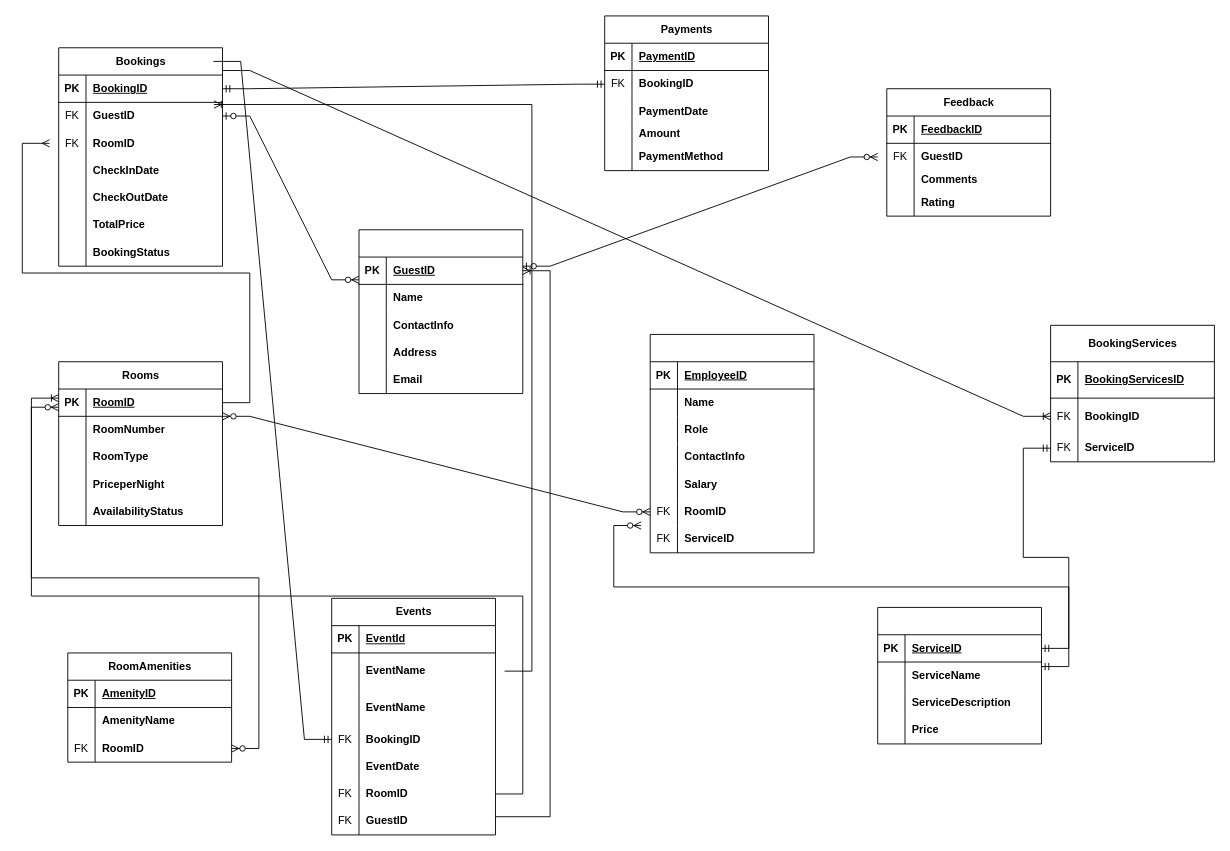
Some shapes in this 1230 by 851 pixel diagram are drawn without their labels. Here are the shapes that lost their labels. From the top down, the box of each, then its label:
(358, 229, 523, 394): Guests
(649, 334, 814, 553): Employees
(877, 607, 1041, 744): Services
